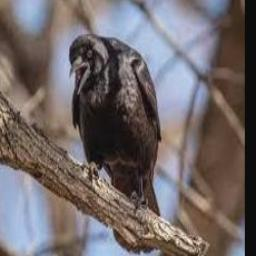Crow: (68, 33, 163, 255)
